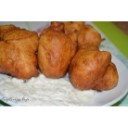bonda: (73, 49, 122, 93), (1, 23, 36, 78), (39, 29, 74, 77)
